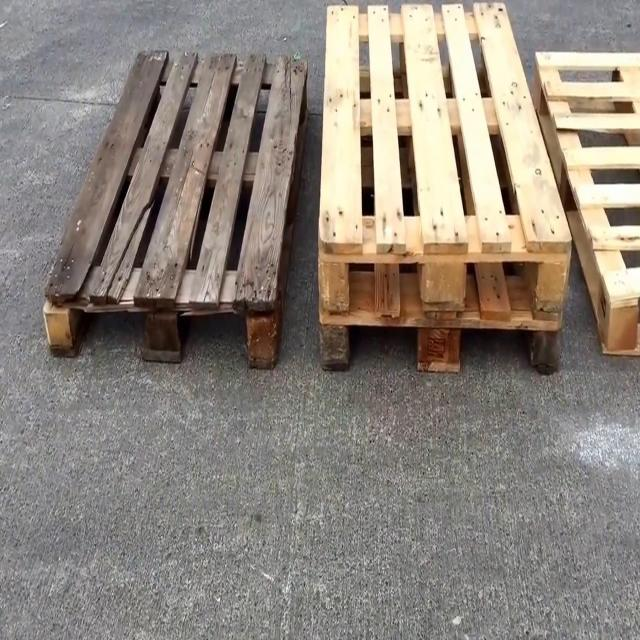Palette: (312, 0, 576, 399), (42, 46, 310, 387), (535, 41, 640, 369)
